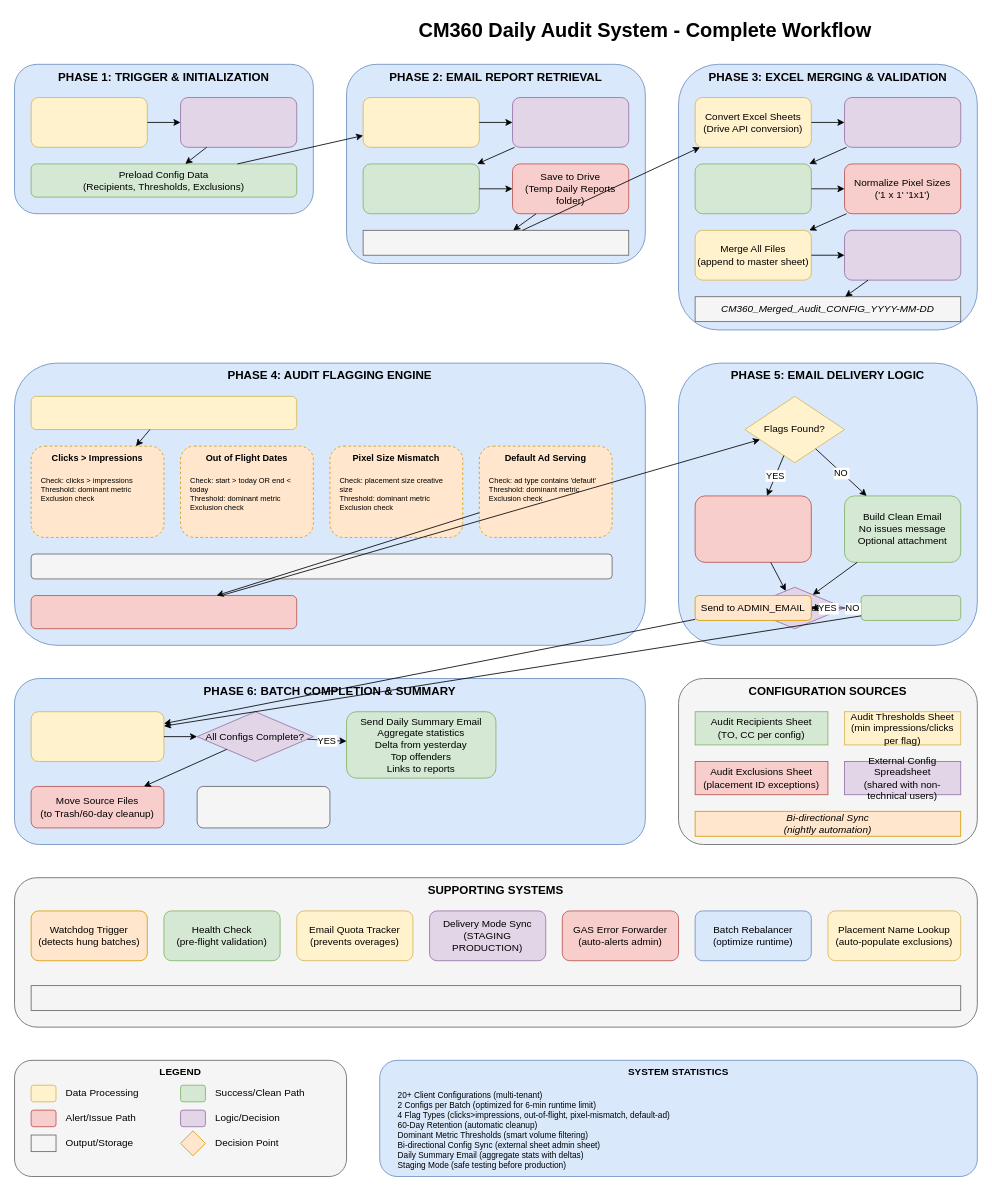
This 992x1191 diagram has some shape labels left out. The centre of each missing label's shape, as x and y in pixels:
"Batch Router (2 configs per batch)" belongs at (238,122).
"Build Flagged Email HTML table Excel attachment Summary counts" belongs at (752,528).
"Collect Flagged Rows (with flag reasons)" belongs at (163,612).
"Extract Excel Attachments (from email threads)" belongs at (420,188).
"Filter Threads (Today's date only)" belongs at (570,122).
"Find Gmail Label (e.g., 'CM360/PST01')" belongs at (420,122).
"Find Header Row (keyword detection)" belongs at (902,122).
"Freeze Header Row & Apply Formatting" belongs at (902,254).
"Iterate Each Data Row" belongs at (163,412).
"Nightly Cleanup (Delete files > 60 days)" belongs at (263,807).
"Send to Recipients (from config sheet)" belongs at (910,607).
"Store Audit Results (CacheService)" belongs at (97,736).
"Temp_CM360_YYYYMMDD_HHMMSS" belongs at (495,242).
"Testing Tools: Silent Withhold Check, Threshold Diagnostics, Batch Test" belongs at (495,998).
"Thresholds: Use HIGHER of (clicks, impressions) to reduce low-volume noise" belongs at (321,566).
"Time-Based Trigger (Daily 7:00 AM EST)" belongs at (88,122).
"Validate Column Order (14-column spec)" belongs at (752,188).
